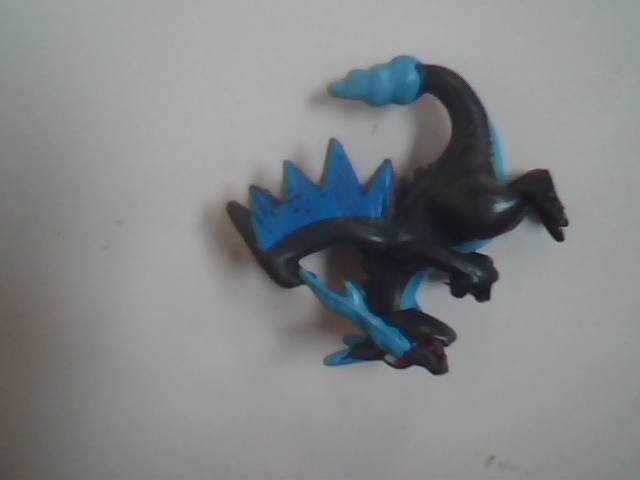charizard: (220, 56, 589, 394)
